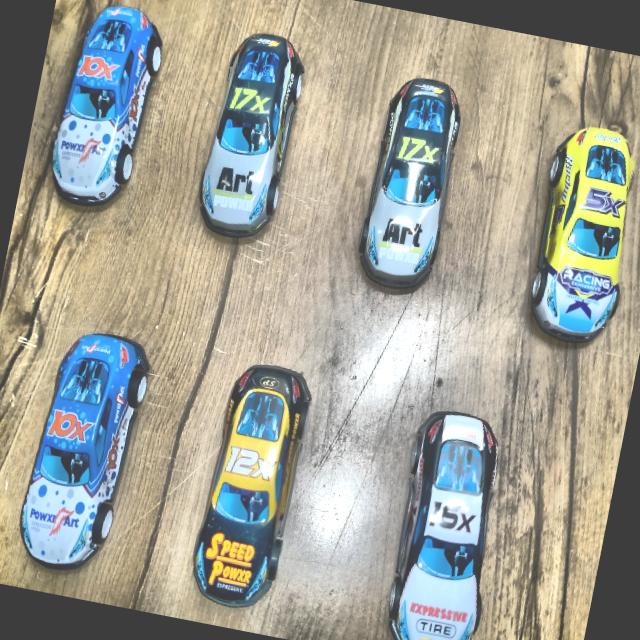Car: (177, 343, 324, 618), (13, 325, 154, 578), (374, 406, 517, 640), (519, 121, 640, 349), (44, 0, 169, 214), (352, 73, 468, 295), (192, 28, 310, 244)
